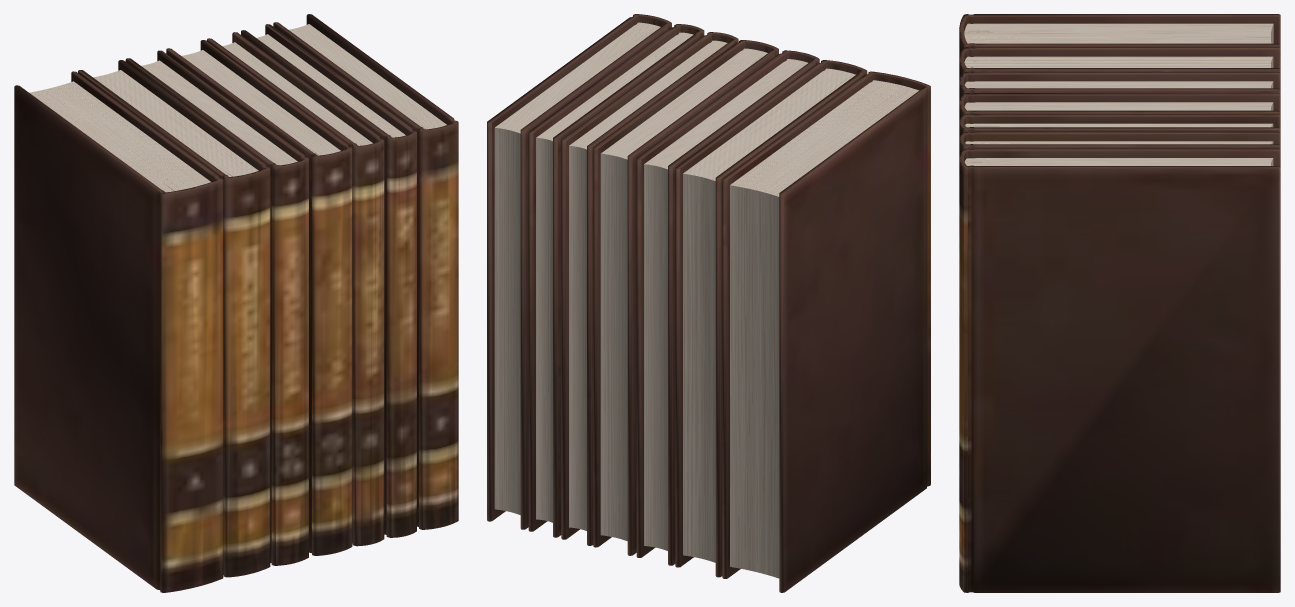
The model's file is books-few.glb.
3 views of the same model, side by side, from view 1: azimuth 30°, elevation 25°; view 2: azimuth 150°, elevation 25°; view 3: azimuth 270°, elevation 25° (orthographic). The views are drawn at different scales.
Parts seen in each view (by area): view 1: book_encyclopedia_set_01_book01; view 2: book_encyclopedia_set_01_book01; view 3: book_encyclopedia_set_01_book01.
Part boxes in pixels (x1,y1,x2,y2): book_encyclopedia_set_01_book01: (14, 14, 458, 592); book_encyclopedia_set_01_book01: (487, 14, 930, 592); book_encyclopedia_set_01_book01: (959, 14, 1280, 592).
Bounding box in the file's own units: 0.1855 × 0.2374 × 0.1631.
Materials: 2 (2 with a texture image).
